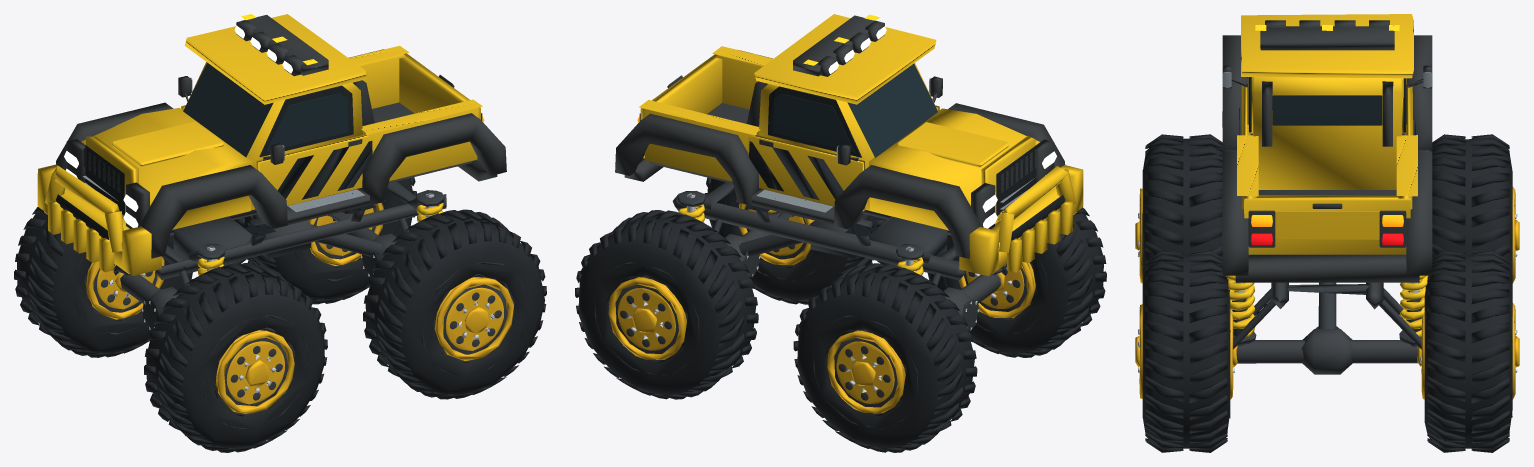
The model's file is DiggerDan_LOD1.fbx.
The picture shows the model from 3 angles, left to right: view 1: azimuth 30°, elevation 25°; view 2: azimuth 150°, elevation 25°; view 3: azimuth 270°, elevation 25°; orthographic projection. The views are drawn at different scales.
Parts seen in each view (by area): view 1: DiggerDan_LOD1_sprung_body_Geometry, DiggerDan_LOD1_FL_Spin_Geometry, DiggerDan_LOD1_RL_Spin_Geometry, DiggerDan_LOD1_FR_Spin_Geometry, DiggerDan_LOD1_RR_Spin_Geometry, DiggerDan_LOD1_FRONT_axle_Geometry, DiggerDan_LOD1_Root_Geometry, DiggerDan_LOD1_REAR_axle_Geometry, DiggerDan_LOD1_REAR_shock_-1_Geometry, DiggerDan_LOD1_FRONT_shock_-1_Geometry; view 2: DiggerDan_LOD1_sprung_body_Geometry, DiggerDan_LOD1_FR_Spin_Geometry, DiggerDan_LOD1_RR_Spin_Geometry, DiggerDan_LOD1_FL_Spin_Geometry, DiggerDan_LOD1_RL_Spin_Geometry, DiggerDan_LOD1_FRONT_axle_Geometry, DiggerDan_LOD1_Root_Geometry, DiggerDan_LOD1_REAR_axle_Geometry, DiggerDan_LOD1_REAR_shock_1_Geometry, DiggerDan_LOD1_FRONT_shock_1_Geometry; view 3: DiggerDan_LOD1_sprung_body_Geometry, DiggerDan_LOD1_RR_Spin_Geometry, DiggerDan_LOD1_RL_Spin_Geometry, DiggerDan_LOD1_FR_Spin_Geometry, DiggerDan_LOD1_FL_Spin_Geometry, DiggerDan_LOD1_REAR_axle_Geometry, DiggerDan_LOD1_Root_Geometry, DiggerDan_LOD1_REAR_shock_-1_Geometry, DiggerDan_LOD1_REAR_shock_1_Geometry.
Boxes of the visible parts, x1=… form: DiggerDan_LOD1_sprung_body_Geometry: x1=37, y1=14, x2=506, y2=279; DiggerDan_LOD1_FL_Spin_Geometry: x1=144, y1=263, x2=327, y2=452; DiggerDan_LOD1_RL_Spin_Geometry: x1=363, y1=209, x2=546, y2=399; DiggerDan_LOD1_FR_Spin_Geometry: x1=14, y1=207, x2=192, y2=357; DiggerDan_LOD1_RR_Spin_Geometry: x1=234, y1=177, x2=416, y2=304; DiggerDan_LOD1_FRONT_axle_Geometry: x1=120, y1=274, x2=178, y2=330; DiggerDan_LOD1_Root_Geometry: x1=113, y1=188, x2=409, y2=285; DiggerDan_LOD1_REAR_axle_Geometry: x1=347, y1=228, x2=396, y2=277; DiggerDan_LOD1_REAR_shock_-1_Geometry: x1=415, y1=190, x2=444, y2=221; DiggerDan_LOD1_FRONT_shock_-1_Geometry: x1=197, y1=243, x2=225, y2=275; DiggerDan_LOD1_sprung_body_Geometry: x1=615, y1=14, x2=1083, y2=280; DiggerDan_LOD1_FR_Spin_Geometry: x1=793, y1=263, x2=977, y2=452; DiggerDan_LOD1_RR_Spin_Geometry: x1=575, y1=210, x2=758, y2=399; DiggerDan_LOD1_FL_Spin_Geometry: x1=927, y1=207, x2=1106, y2=357; DiggerDan_LOD1_RL_Spin_Geometry: x1=704, y1=177, x2=887, y2=304; DiggerDan_LOD1_FRONT_axle_Geometry: x1=944, y1=274, x2=1000, y2=331; DiggerDan_LOD1_Root_Geometry: x1=697, y1=212, x2=1007, y2=286; DiggerDan_LOD1_REAR_axle_Geometry: x1=725, y1=229, x2=771, y2=278; DiggerDan_LOD1_REAR_shock_1_Geometry: x1=677, y1=191, x2=705, y2=222; DiggerDan_LOD1_FRONT_shock_1_Geometry: x1=896, y1=244, x2=923, y2=275; DiggerDan_LOD1_sprung_body_Geometry: x1=1222, y1=14, x2=1432, y2=309; DiggerDan_LOD1_RR_Spin_Geometry: x1=1417, y1=250, x2=1519, y2=452; DiggerDan_LOD1_RL_Spin_Geometry: x1=1135, y1=250, x2=1237, y2=452; DiggerDan_LOD1_FR_Spin_Geometry: x1=1432, y1=134, x2=1519, y2=286; DiggerDan_LOD1_FL_Spin_Geometry: x1=1135, y1=134, x2=1222, y2=283; DiggerDan_LOD1_REAR_axle_Geometry: x1=1236, y1=326, x2=1418, y2=374; DiggerDan_LOD1_Root_Geometry: x1=1233, y1=282, x2=1421, y2=349; DiggerDan_LOD1_REAR_shock_-1_Geometry: x1=1226, y1=275, x2=1256, y2=344; DiggerDan_LOD1_REAR_shock_1_Geometry: x1=1399, y1=275, x2=1428, y2=344.
Bounding box in the file's own units: 533 × 425 × 414.
